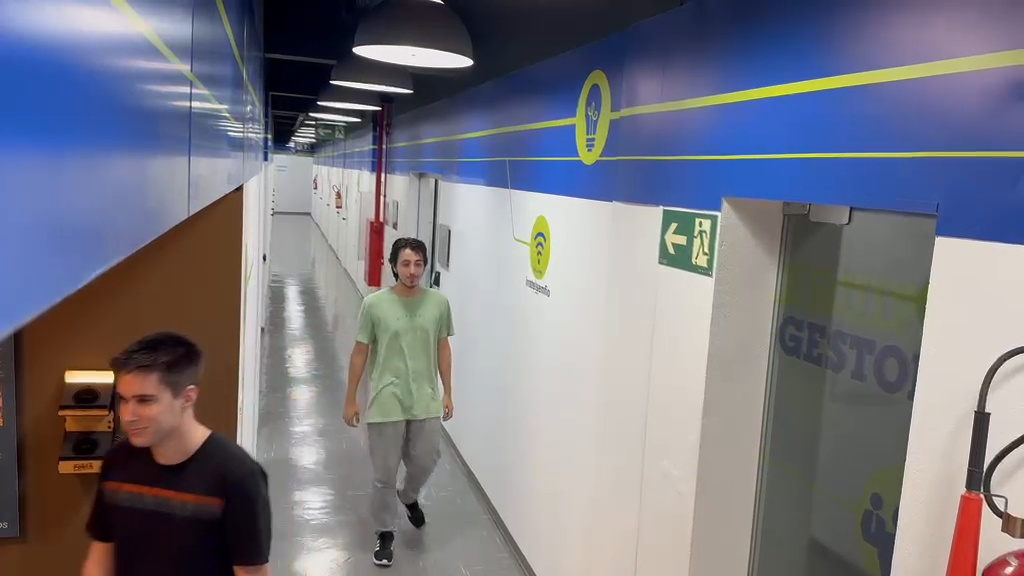person: (80, 331, 273, 572), (343, 235, 456, 565)
